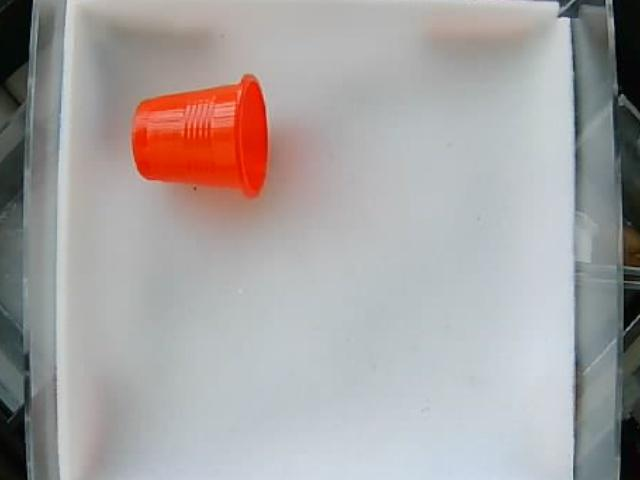Cup: (131, 73, 272, 197)
